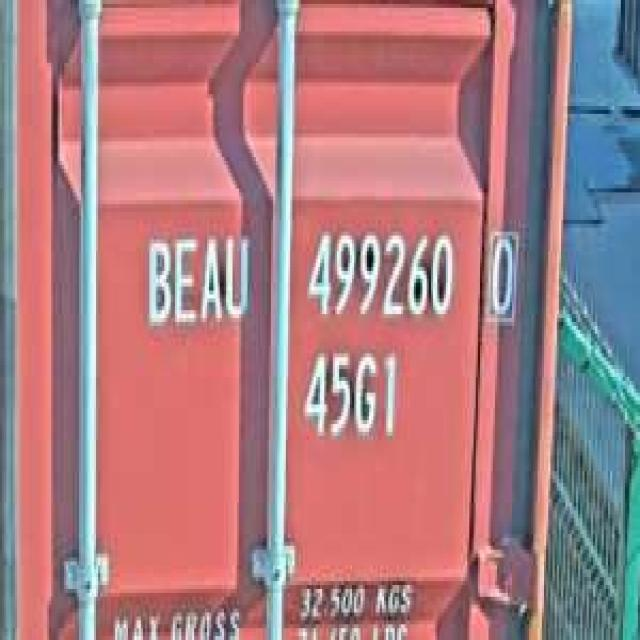dv: (482, 220, 521, 326)
owner: (139, 224, 254, 338)
serial: (301, 220, 456, 330)
size: (297, 338, 401, 452)
